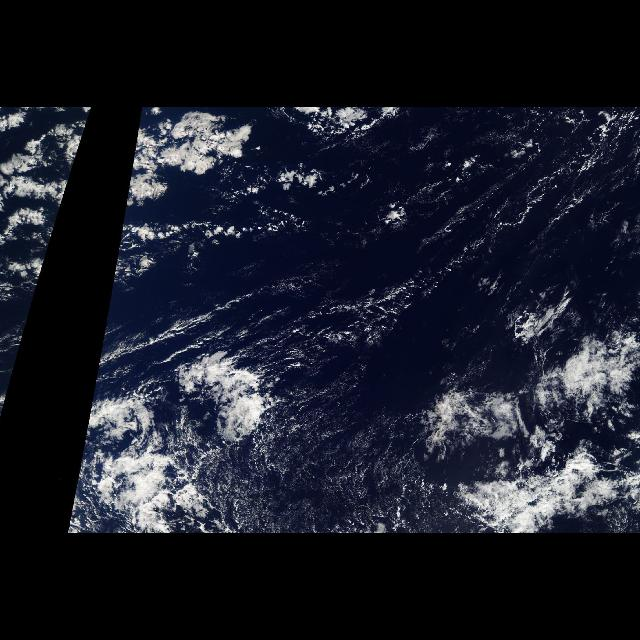Flower: (118, 147, 258, 253), (6, 147, 78, 253)
Sugar: (264, 291, 434, 531)
